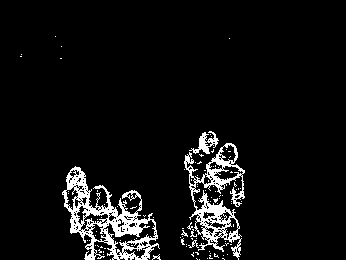person: (180, 183, 243, 260), (104, 189, 161, 260), (71, 184, 121, 260), (202, 140, 246, 212), (61, 164, 92, 260), (183, 129, 220, 208)
